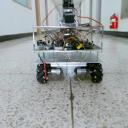cart: (30, 24, 105, 84)
